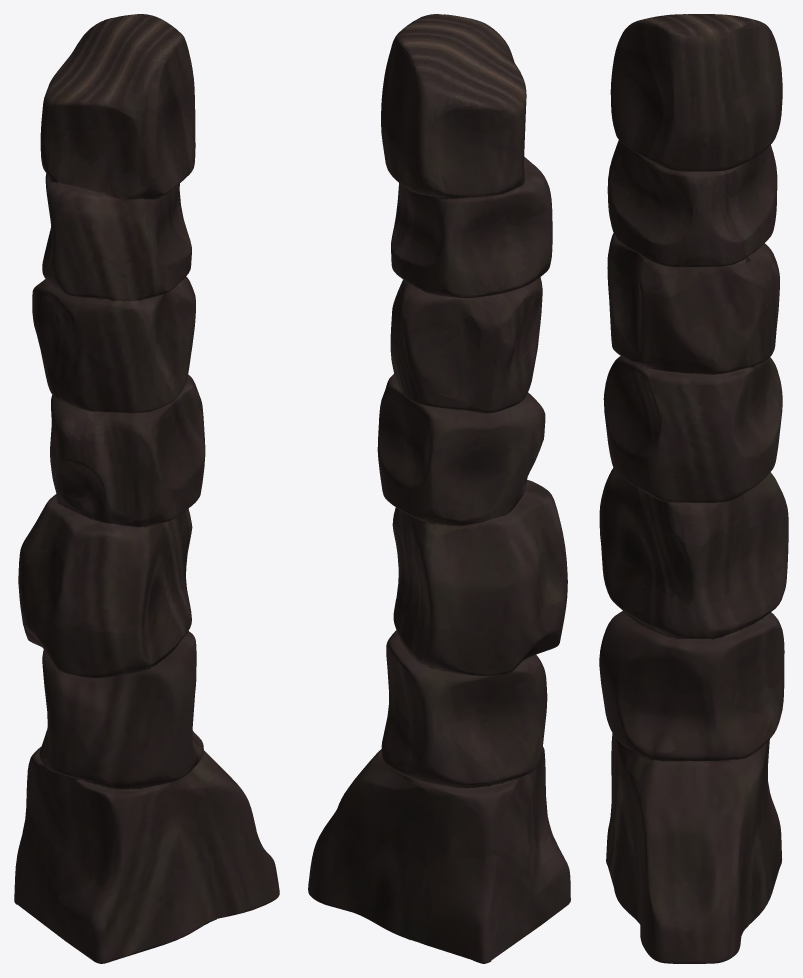
File: totem-sculpture-walnut.glb
3 views of the same model, side by side, from view 1: azimuth 30°, elevation 25°; view 2: azimuth 150°, elevation 25°; view 3: azimuth 270°, elevation 25° (orthographic).
Parts seen in each view (by area): view 1: mesh_node; view 2: mesh_node; view 3: mesh_node.
Boxes of the visible parts, bbox=[...] form: mesh_node: bbox=[14, 14, 279, 963]; mesh_node: bbox=[308, 14, 570, 963]; mesh_node: bbox=[599, 14, 788, 963].
Size of the model in its own units: 0.5261 by 1.9 by 0.3674.
Materials: 1 (1 with a texture image).
